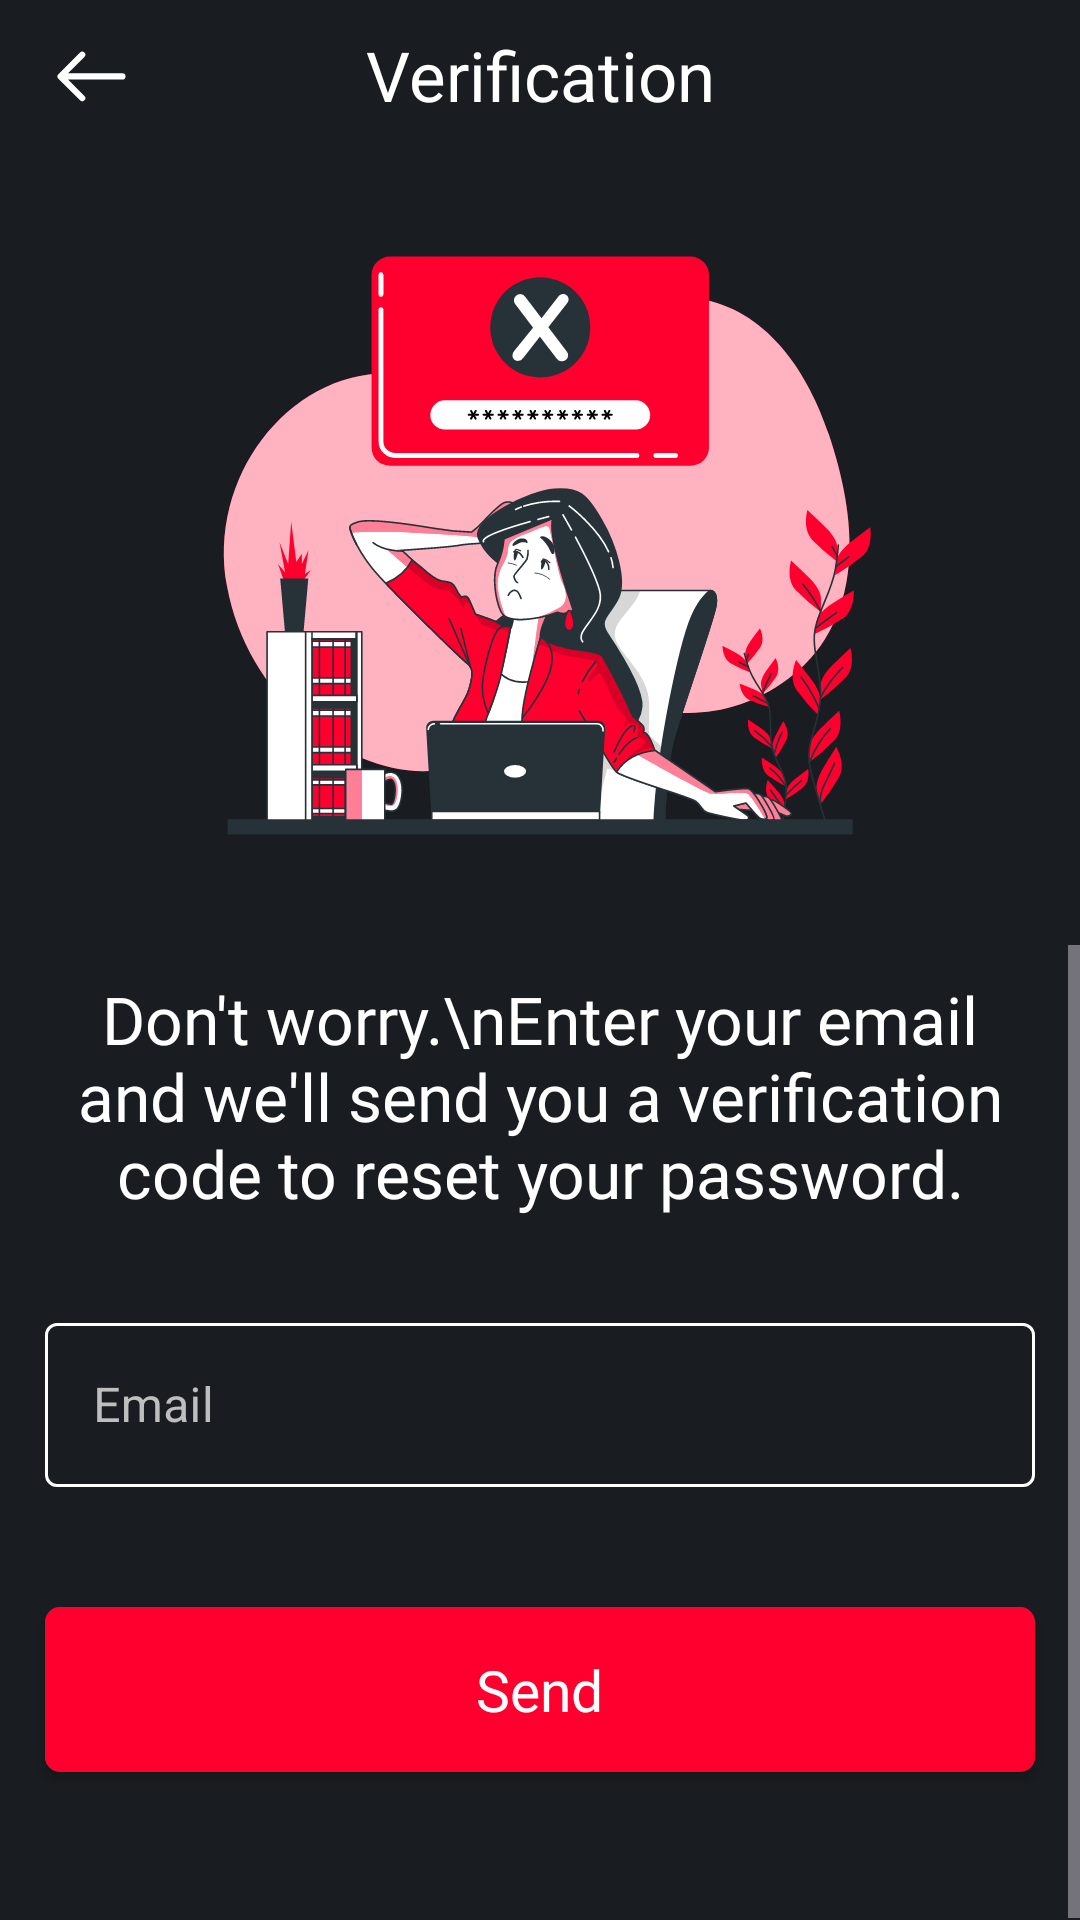

Screen size 1080x1920. Icon name, then its box in pixels as [x1=x1, y1=y1, x2=x2, y2=y2]:
arrow back: [x1=57, y1=51, x2=126, y2=102]
